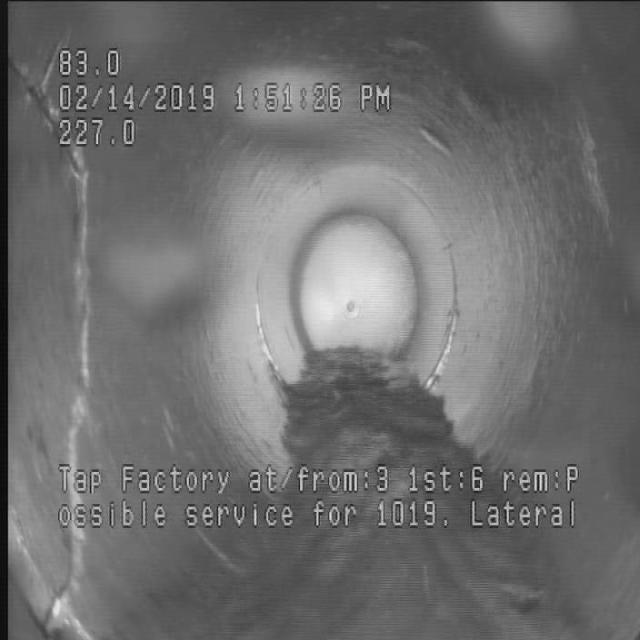Crack: (16, 65, 106, 618)
